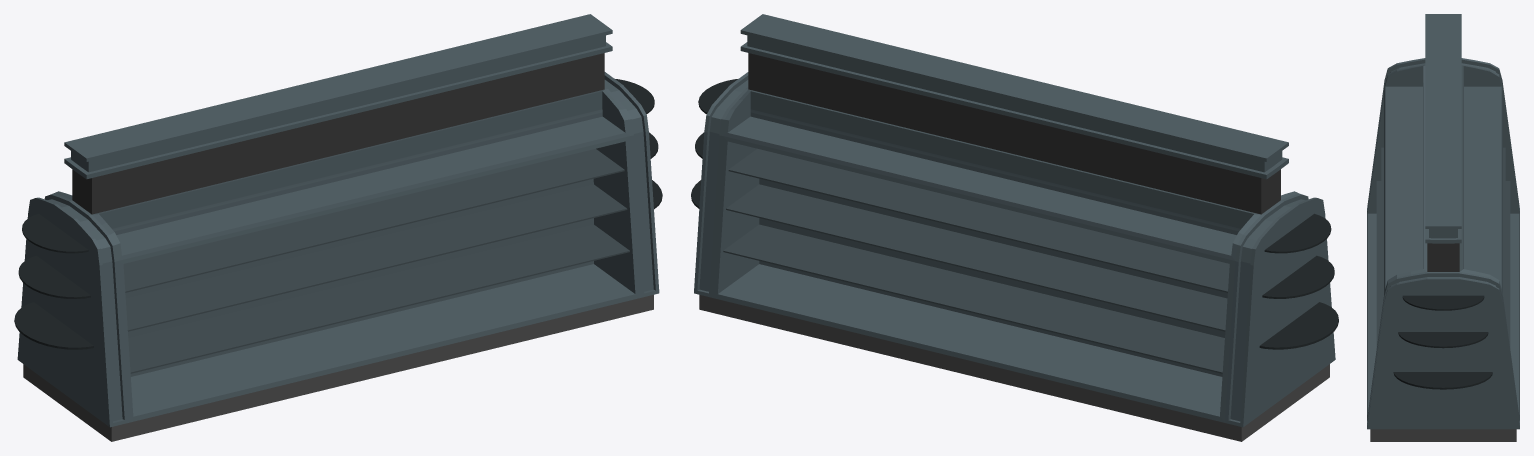
File: Two Sided Shelving Large.fbx
3 views of the same model, side by side, from view 1: azimuth 30°, elevation 25°; view 2: azimuth 150°, elevation 25°; view 3: azimuth 270°, elevation 25° (orthographic). The views are drawn at different scales.
Visible parts, largest first — view 1: Two Sided Shelving Large; view 2: Two Sided Shelving Large; view 3: Two Sided Shelving Large.
Boxes of the visible parts, x1,y1,x2,y2 form: Two Sided Shelving Large: (14,14,662,441); Two Sided Shelving Large: (691,14,1338,441); Two Sided Shelving Large: (1367,14,1519,441).
Bounding box in the file's own units: 405 × 158 × 103.
2 materials, 2 textured.
